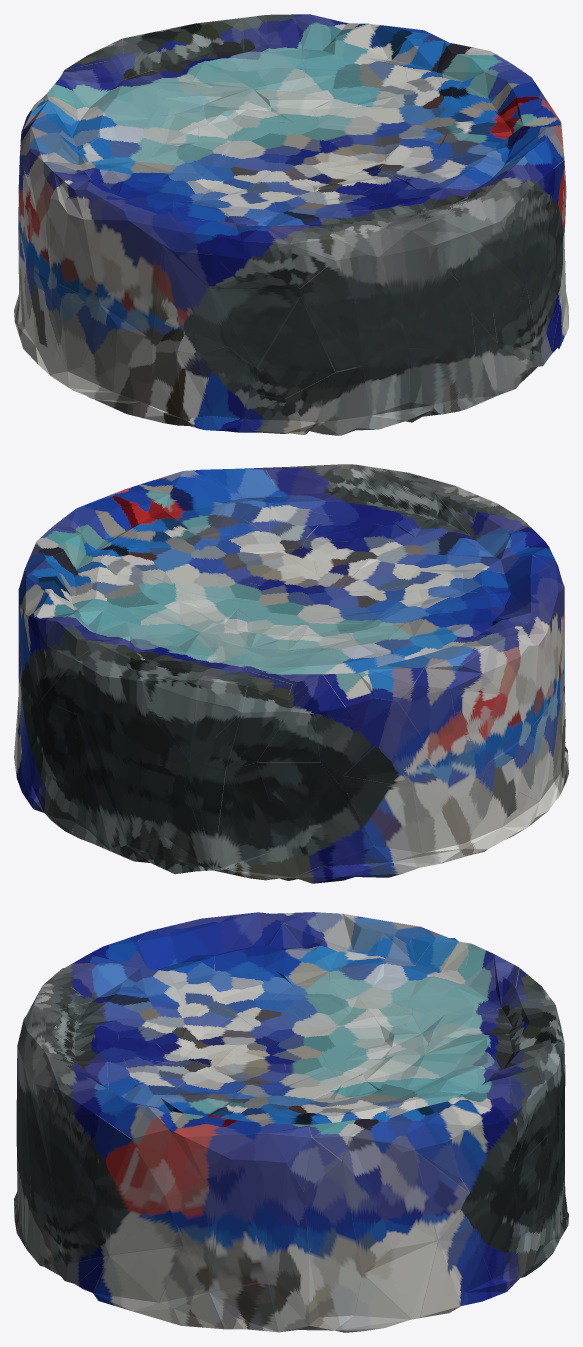
File: ycb_tuna_fish_can_metric_fp.obj
3 views of the same model, one above another, from view 1: azimuth 30°, elevation 25°; view 2: azimuth 150°, elevation 25°; view 3: azimuth 270°, elevation 25° (orthographic).
Size of the model in its own units: 0.0853 by 0.0341 by 0.0852.
1 material, 1 textured.
